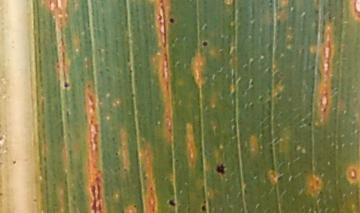tarspot: (214, 161, 226, 175), (167, 198, 177, 208), (62, 81, 71, 89), (201, 40, 209, 48), (200, 204, 207, 212), (168, 16, 175, 24), (10, 159, 18, 166), (31, 197, 38, 204), (113, 150, 120, 157), (327, 14, 333, 22), (201, 198, 207, 204), (306, 121, 312, 127), (128, 67, 133, 74), (129, 92, 134, 99), (132, 203, 137, 209), (1, 134, 4, 144), (1, 190, 5, 197)
